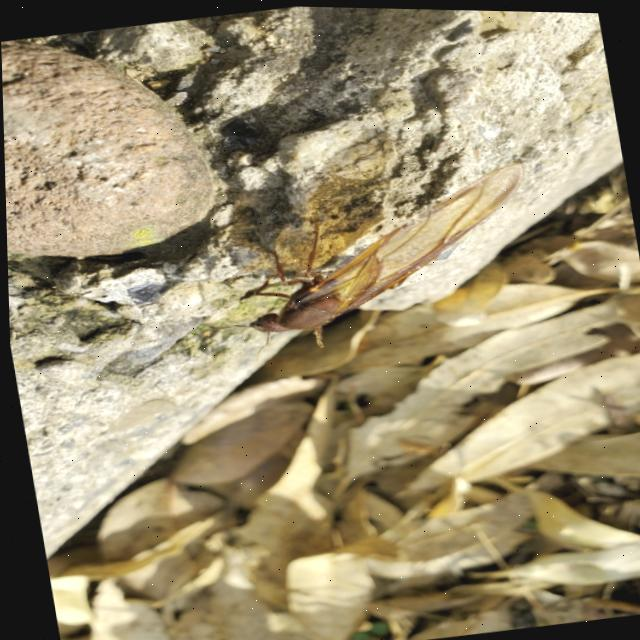Alive-Female-Alate: (182, 153, 550, 371)
